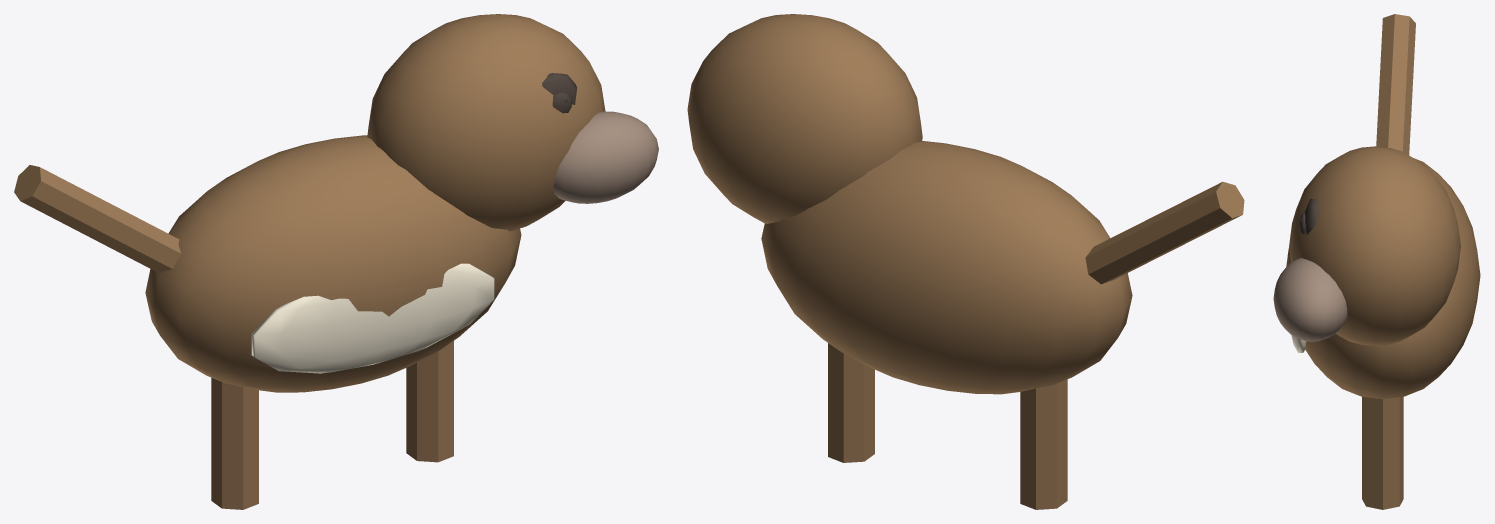
Rendered from bear.glb.
The picture shows the model from 3 angles, left to right: view 1: azimuth 30°, elevation 25°; view 2: azimuth 150°, elevation 25°; view 3: azimuth 270°, elevation 25°; orthographic projection. The views are drawn at different scales.
Visible parts, largest first — view 1: body, head, belly, snout, tail, leg_0, leg_1; view 2: body, head, tail, leg_0, leg_1; view 3: head, body, snout, leg_1, tail, eye_socket.
Boxes of the visible parts, bbox=[...] form: body: bbox=[145, 135, 521, 392]; head: bbox=[367, 14, 605, 231]; belly: bbox=[251, 263, 494, 373]; snout: bbox=[553, 111, 658, 203]; tail: bbox=[14, 165, 180, 273]; leg_0: bbox=[211, 377, 258, 509]; leg_1: bbox=[406, 341, 453, 462]; body: bbox=[761, 141, 1132, 394]; head: bbox=[687, 14, 922, 223]; tail: bbox=[1085, 181, 1244, 284]; leg_0: bbox=[1020, 379, 1067, 509]; leg_1: bbox=[828, 343, 874, 462]; head: bbox=[1289, 146, 1460, 345]; body: bbox=[1286, 158, 1480, 399]; snout: bbox=[1273, 258, 1347, 341]; leg_1: bbox=[1362, 396, 1403, 509]; tail: bbox=[1376, 14, 1415, 155]; eye_socket: bbox=[1304, 198, 1319, 234].
Size of the model in its own units: 2.49 by 1.7 by 0.8748.
